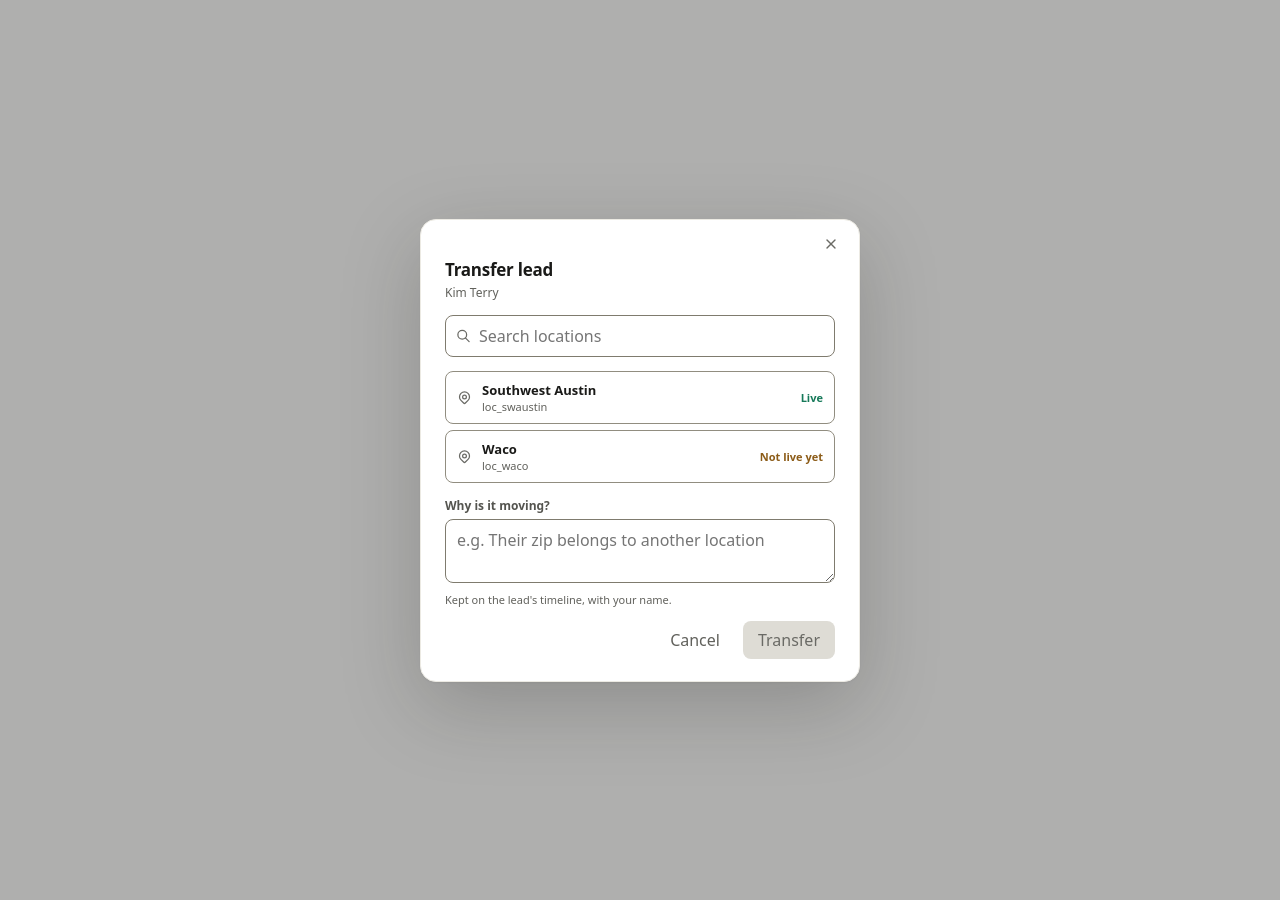
Test: TransferLeadModal for a lead that already has a home › says what the lead leaves behind, for a live and a not-live destination
This screenshot has width=1280, height=900.
Step 1. Click the option "Southwest Austin loc_swaustin Live" → (539, 390), box [445, 370, 835, 424]
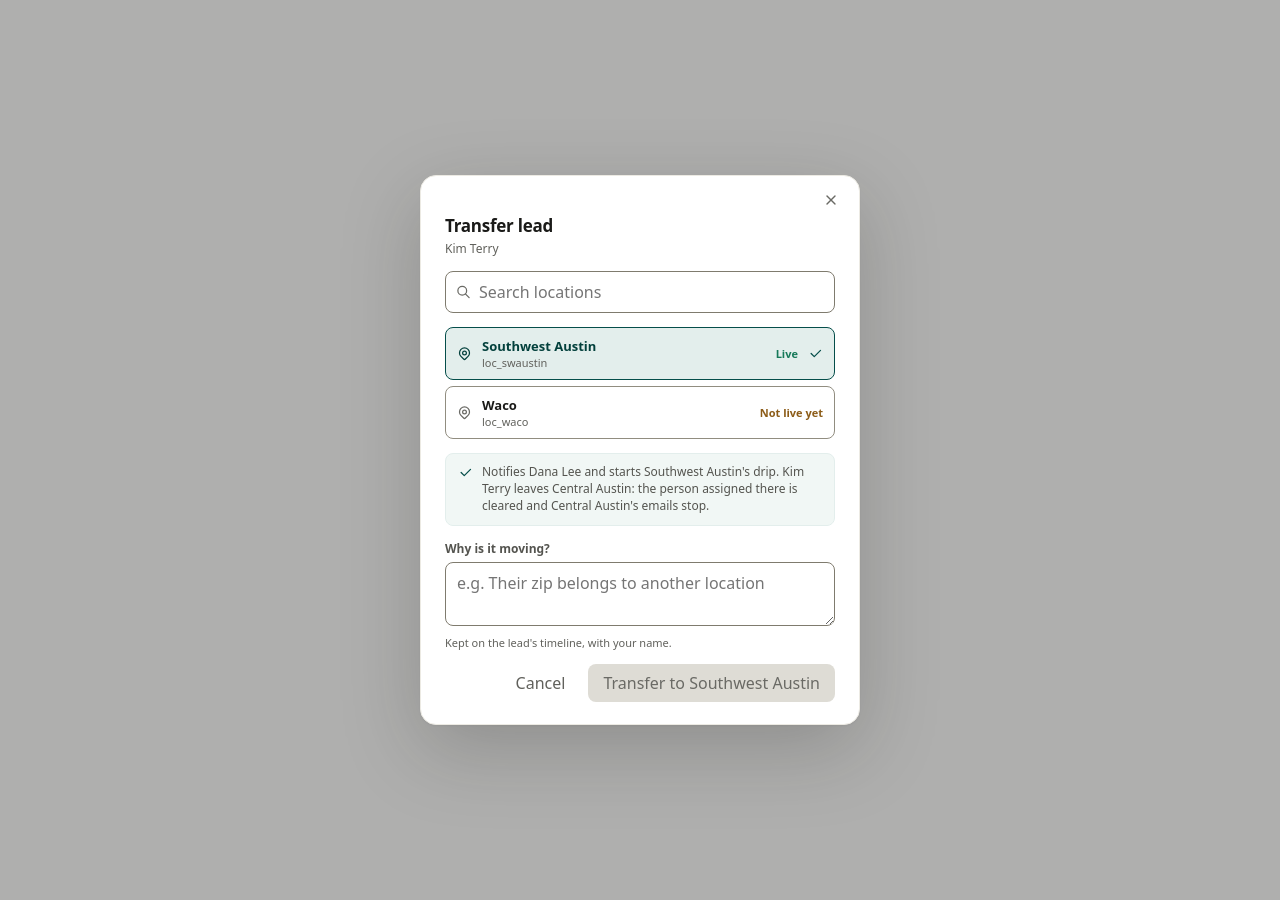
Now the dialog shows "Notifies Dana Lee and starts Southwest Austin's drip.", box [421, 214, 859, 724]
Now the dialog shows "Kim Terry leaves Central Austin: the person assigned there is cleared and Central Austin's emails stop.", box [482, 463, 804, 514]
Step 2. Click the option "Waco loc_waco Not live yet" → (499, 405), box [445, 386, 835, 439]
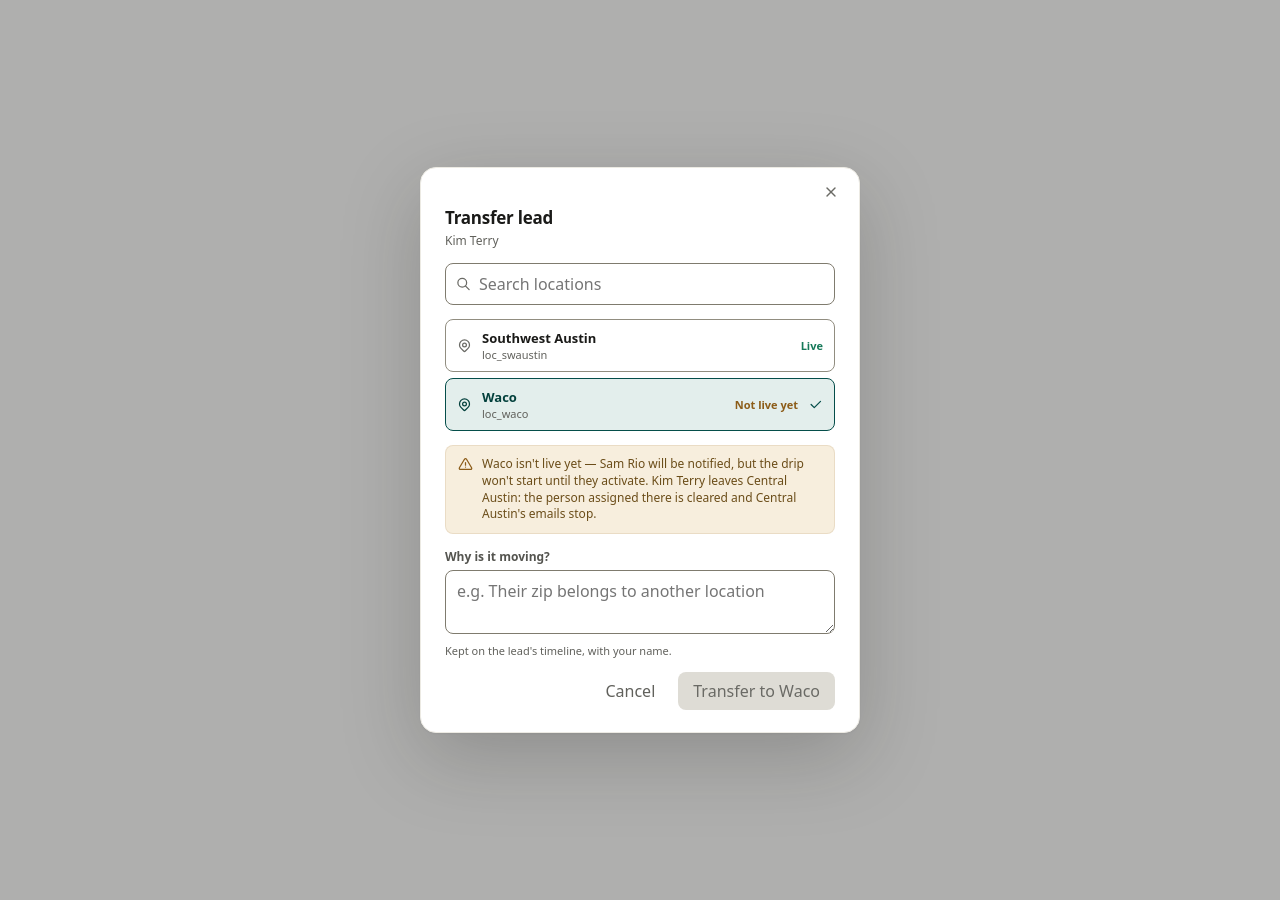
Now the dialog shows "Kim Terry leaves Central Austin", box [482, 472, 796, 522]
Now the dialog shows "Waco isn't live yet", box [421, 206, 859, 732]
